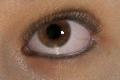eye: (38, 21, 71, 48)
